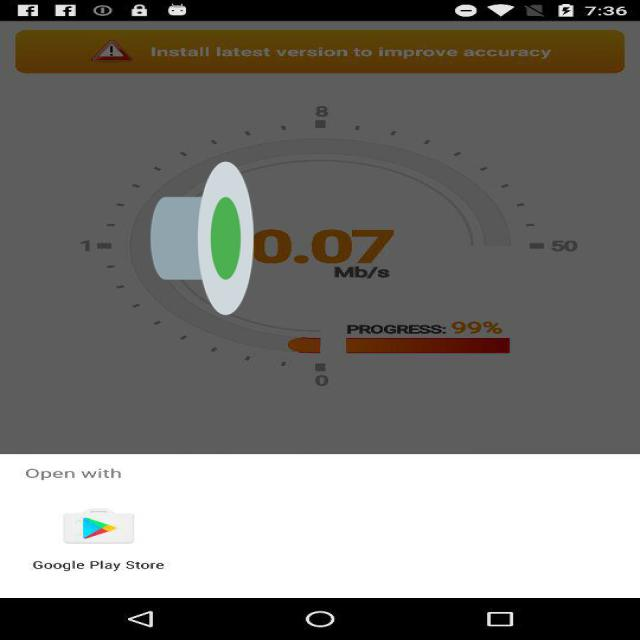social proof: (150, 97, 254, 380)
